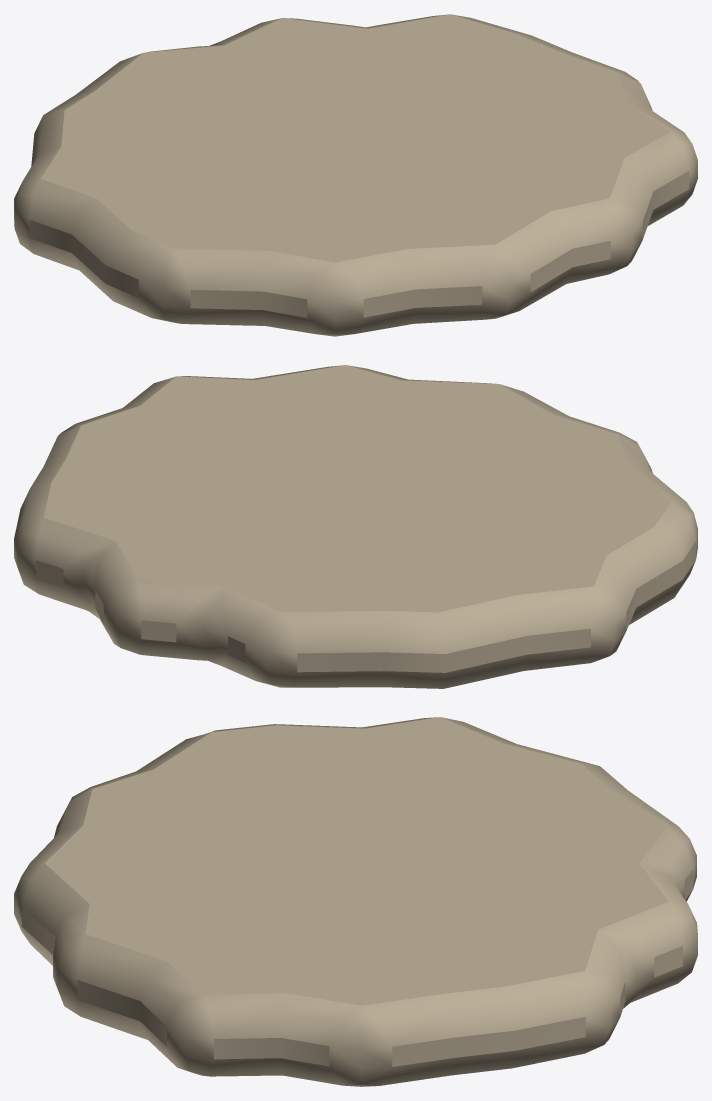
File: stepping_stone.glb
The picture shows the model from 3 angles, top to bottom: view 1: azimuth 30°, elevation 25°; view 2: azimuth 150°, elevation 25°; view 3: azimuth 270°, elevation 25°; orthographic projection. The views are drawn at different scales.
Visible parts, largest first — view 1: Detail.stepping_stone.Stone; view 2: Detail.stepping_stone.Stone; view 3: Detail.stepping_stone.Stone.
Boxes of the visible parts, <box> form: Detail.stepping_stone.Stone: <box>14,14,697,336</box>; Detail.stepping_stone.Stone: <box>14,365,697,688</box>; Detail.stepping_stone.Stone: <box>14,717,697,1086</box>.
Size of the model in its own units: 0.9943 by 0.12 by 0.9173.
